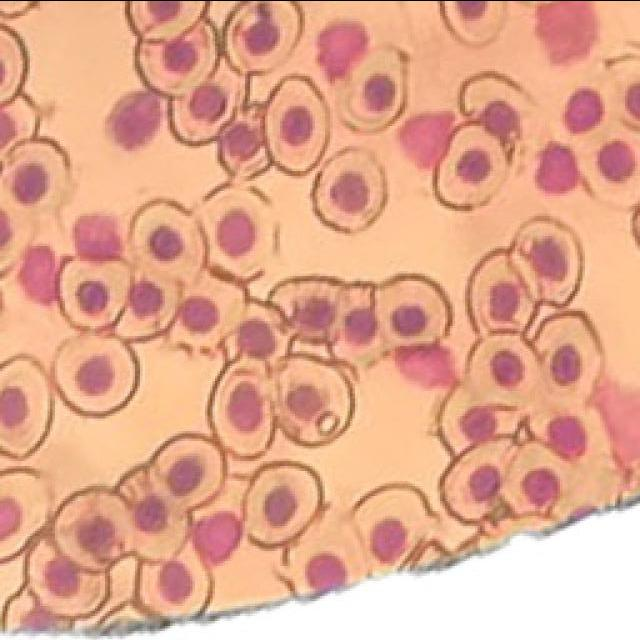RBC: (280, 509, 368, 595), (198, 185, 276, 279), (352, 484, 435, 572), (275, 354, 354, 445), (52, 334, 138, 416), (432, 121, 510, 210), (115, 466, 188, 560), (531, 312, 602, 406), (244, 461, 321, 546), (440, 438, 516, 522), (530, 401, 614, 477), (169, 59, 244, 144), (508, 218, 581, 305), (54, 489, 132, 570), (264, 78, 329, 174), (129, 200, 206, 281), (136, 20, 218, 96), (311, 149, 386, 232), (210, 356, 272, 456), (28, 538, 107, 616), (169, 269, 246, 348), (438, 384, 522, 455), (149, 434, 224, 511), (339, 46, 406, 131), (138, 540, 211, 618), (466, 249, 535, 331), (375, 275, 450, 350), (224, 0, 301, 72), (465, 332, 539, 405), (578, 119, 640, 206), (0, 355, 51, 458), (459, 71, 533, 141), (59, 258, 131, 329), (502, 441, 569, 515), (269, 278, 345, 341), (328, 284, 386, 365), (2, 139, 68, 209), (0, 469, 50, 560), (115, 272, 180, 340), (224, 300, 289, 360), (218, 105, 269, 178), (126, 0, 207, 39), (439, 0, 506, 45), (605, 52, 640, 130), (0, 95, 39, 156), (1, 25, 26, 104)
WBC: (536, 0, 596, 64), (400, 111, 453, 168), (108, 92, 161, 149), (318, 21, 368, 81), (391, 344, 455, 388), (191, 511, 241, 565), (19, 245, 56, 304), (535, 141, 578, 191), (72, 215, 121, 258), (564, 88, 602, 132)
